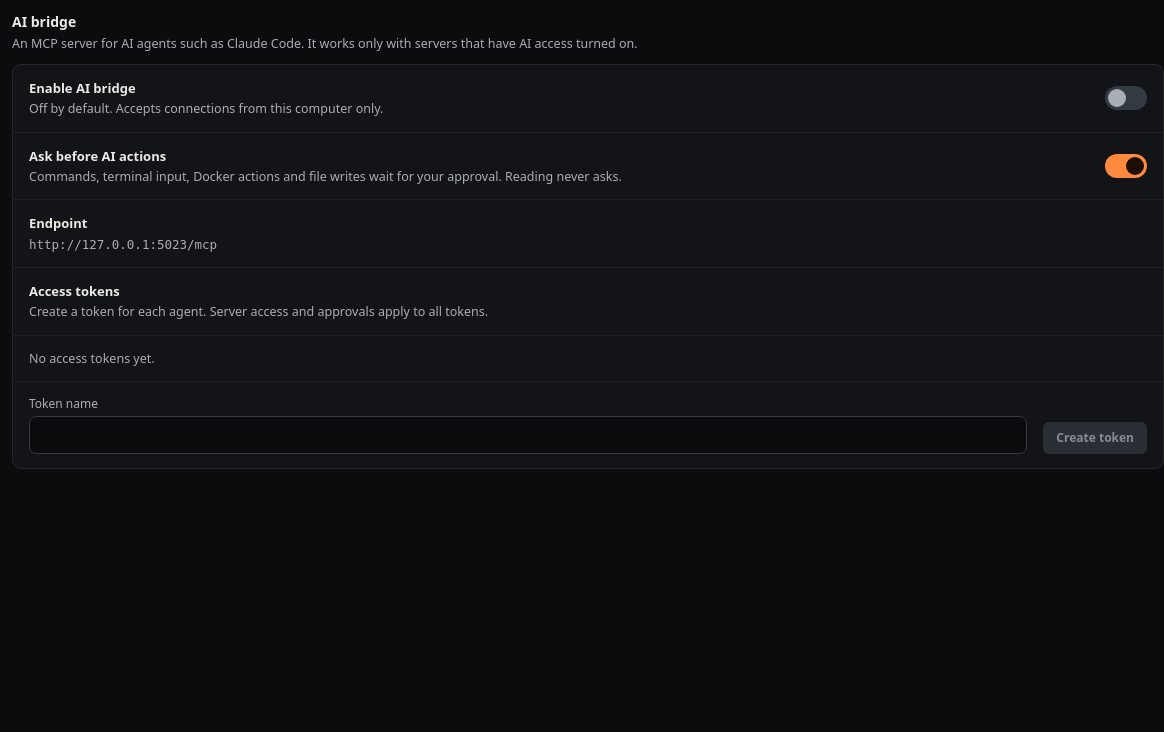
Scenario: AiBridgeSection › shows a duplicate name error without adding a token
This screenshot has width=1164, height=732.
Type "Agent" into the field labelled "Token name". click: (528, 435)
box: 29,416 -> 1027,454
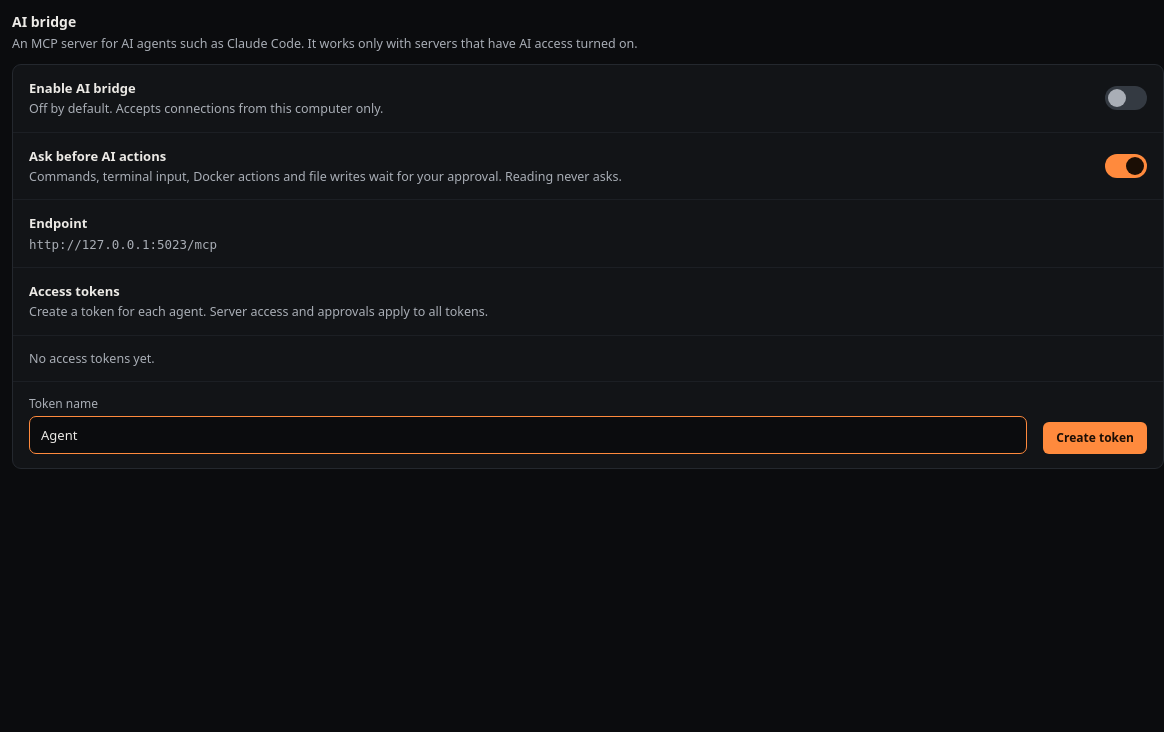
Click the button "Create token". click: click(1095, 438)
box: 1043,422 -> 1147,454
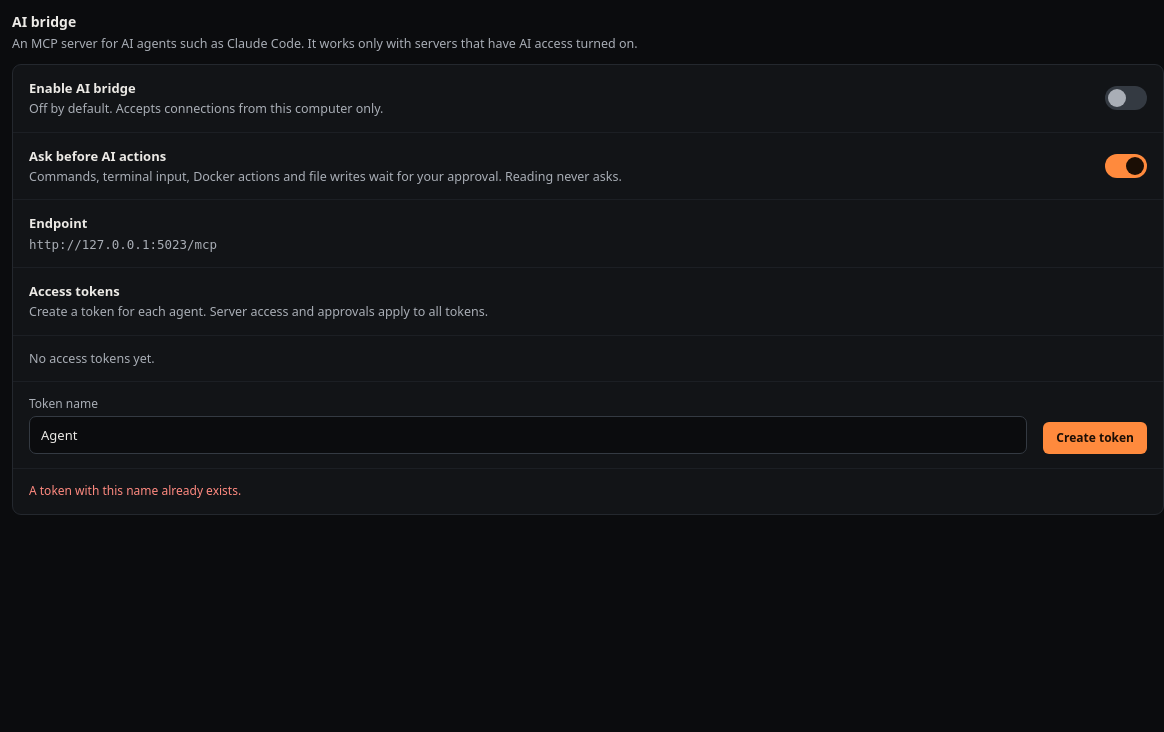
Expected: the message reads "A token with this name already exists.", 29,482 -> 241,499
